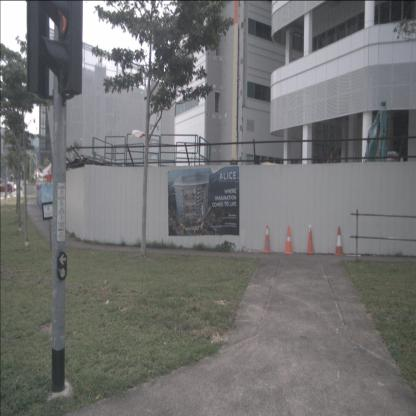movable_object-trafficcone: (334, 226, 345, 256), (262, 226, 272, 253), (306, 225, 315, 254), (284, 225, 293, 254)
vehicle-car: (0, 183, 14, 194)
